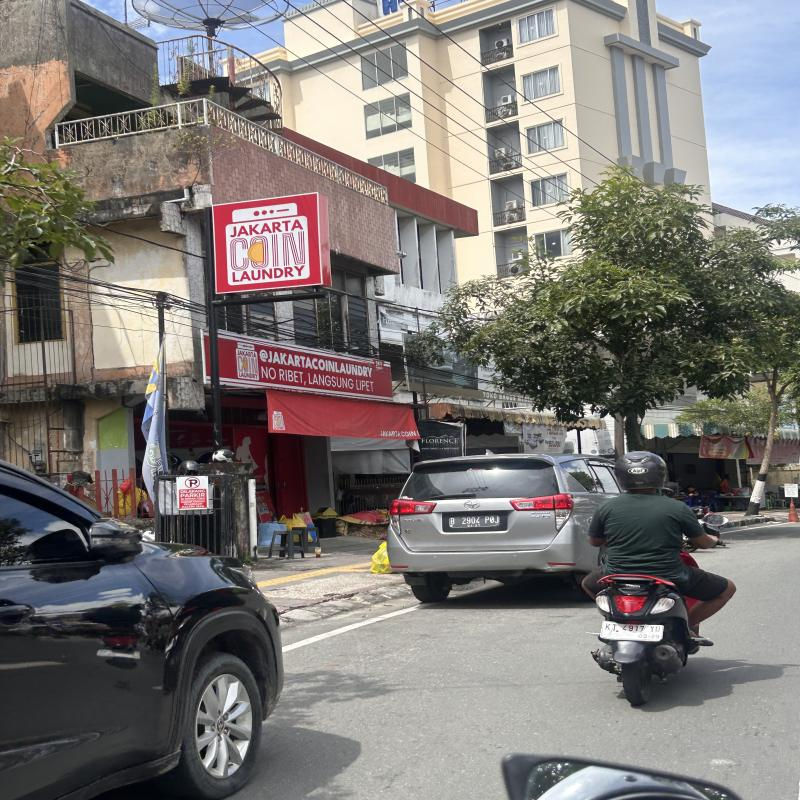license plate on a car: (441, 512, 506, 534)
